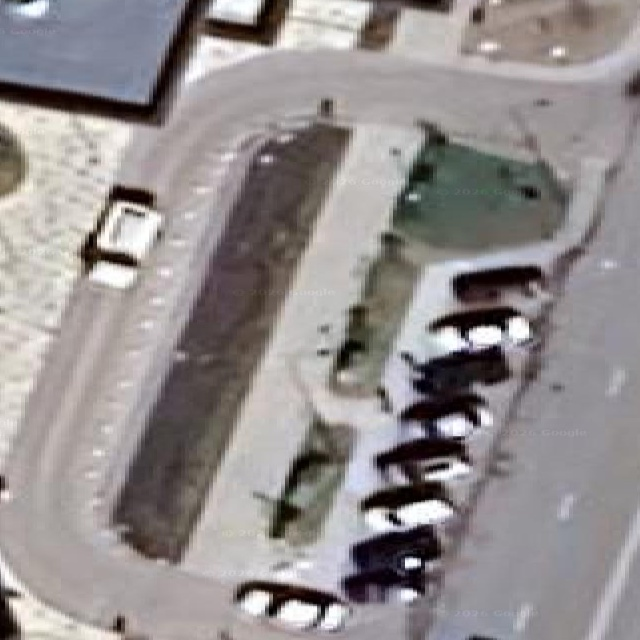car: (343, 527, 440, 603), (88, 201, 160, 287), (233, 580, 348, 631), (411, 346, 510, 395), (360, 483, 455, 532), (375, 436, 471, 483), (428, 307, 532, 350), (351, 526, 442, 572), (400, 392, 492, 437), (452, 263, 547, 301), (343, 567, 428, 603), (413, 428, 415, 430)
